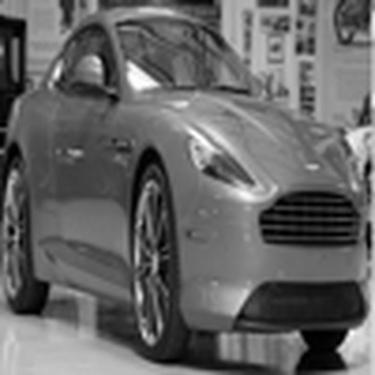car: (3, 6, 369, 363)
